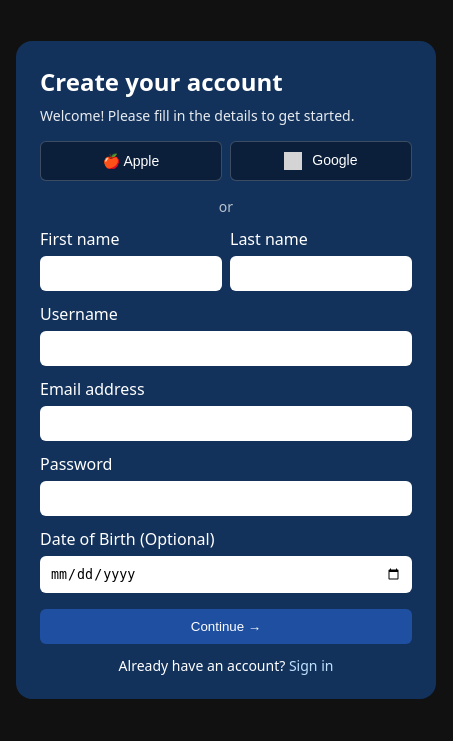
Test: Register Component › Form Validation › validates password minimum length
Type "John" into the field below "First name" at (131,274), box x1=40 y1=256 x2=222 y2=291
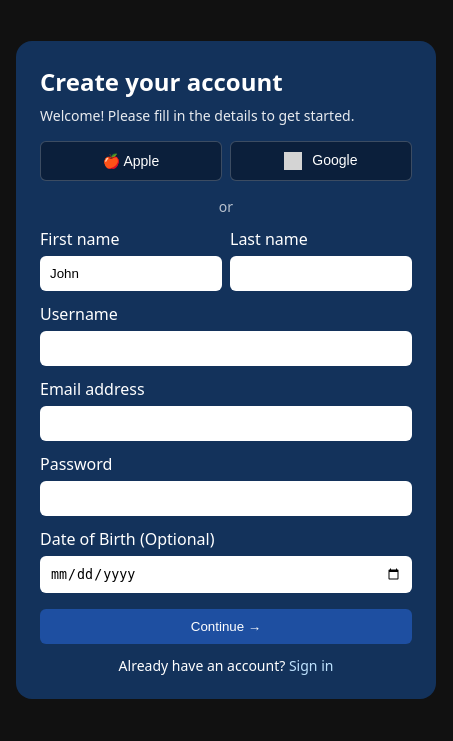
Type "Doe" into the field below "Last name" at (321,274), box x1=230 y1=256 x2=412 y2=291
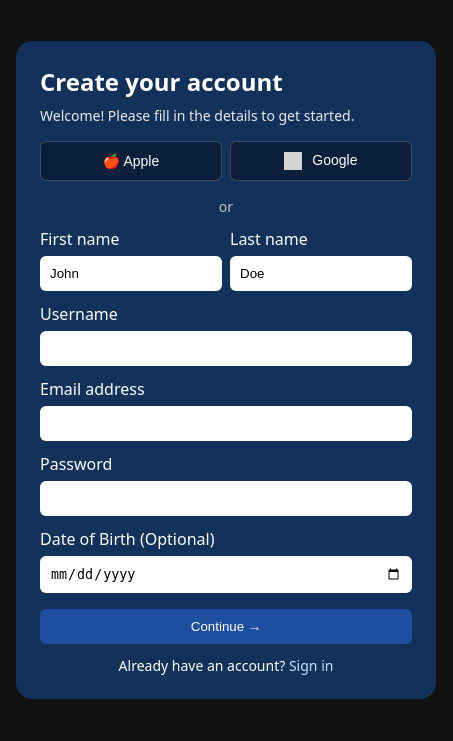
Type "johndoe" into the 3rd field at (226,348), box x1=40 y1=331 x2=412 y2=366
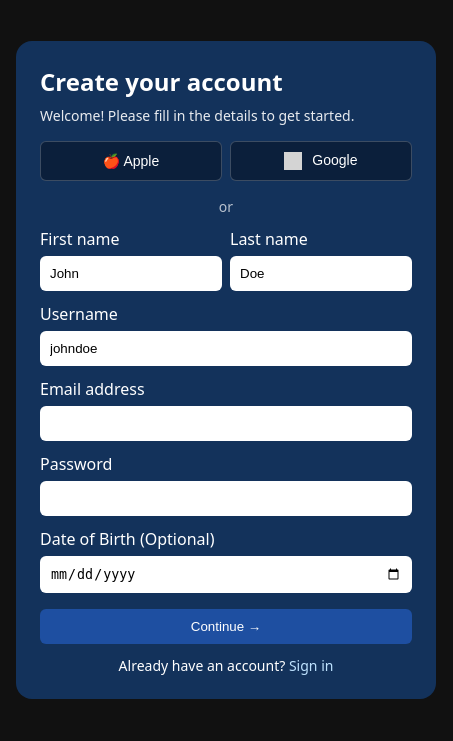
Type "john@example.com" into the 4th field at (226,424), box x1=40 y1=406 x2=412 y2=441
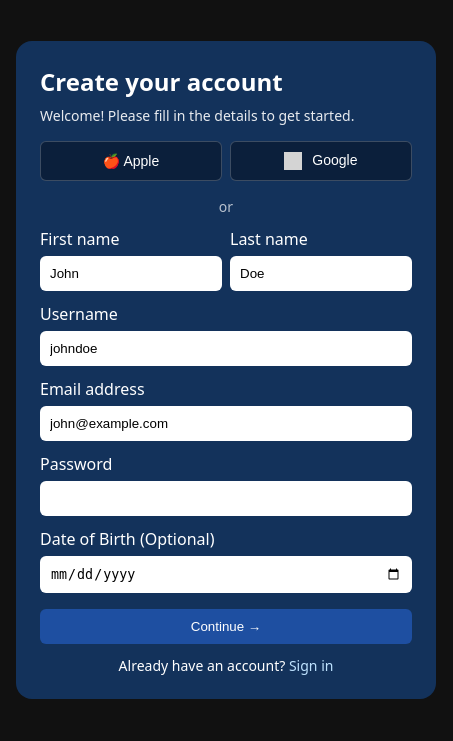
Type "abc" into the password field labelled "Password" at (226,498), box x1=40 y1=481 x2=412 y2=516
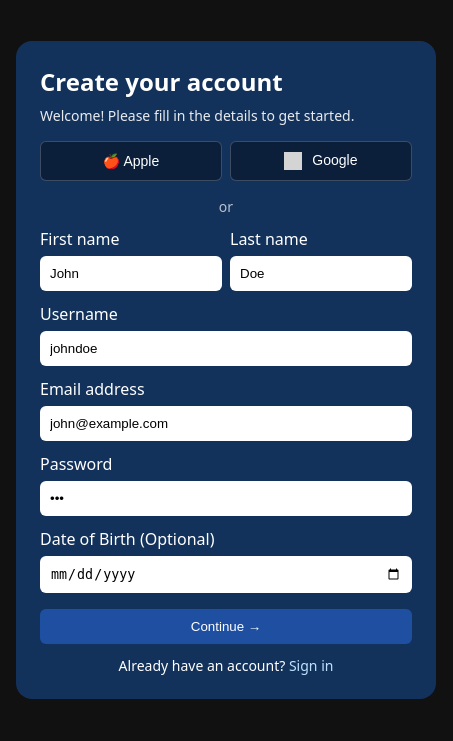
Click the button "Continue →" at (226,627), box x1=40 y1=609 x2=412 y2=644
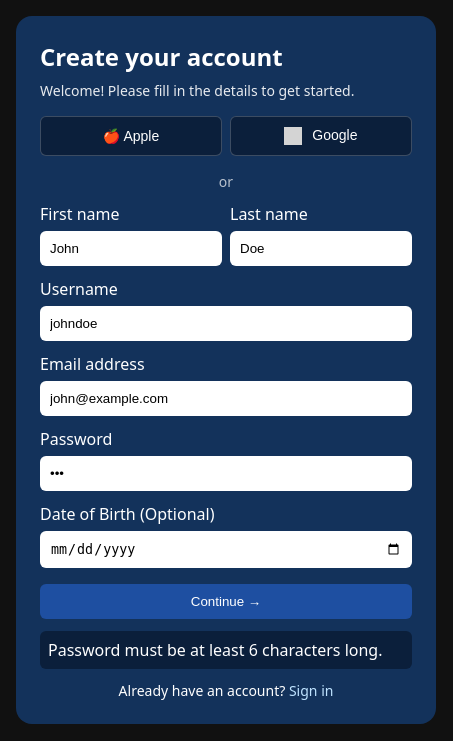
Result: the text "Password must be at least 6 characters long." is shown at x1=40 y1=631 x2=412 y2=669
